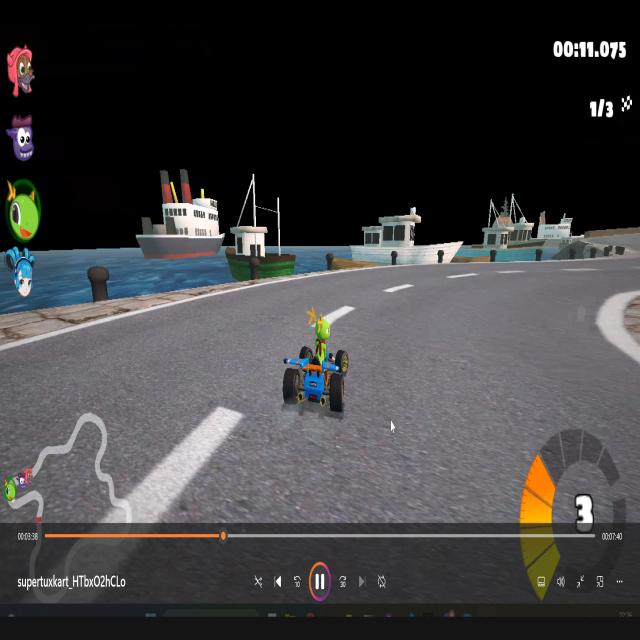off_track: (68, 144, 413, 264)
player_kart: (280, 306, 350, 422)
track: (395, 260, 637, 418), (48, 293, 271, 435)
